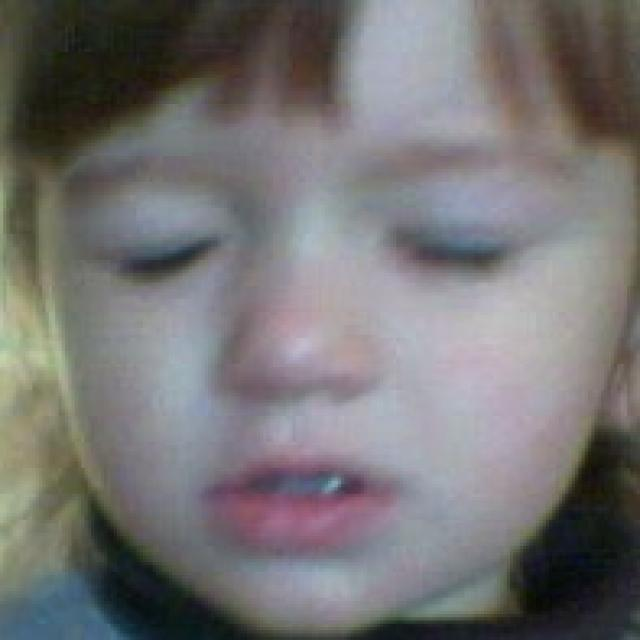sleepy: (51, 152, 546, 531)
